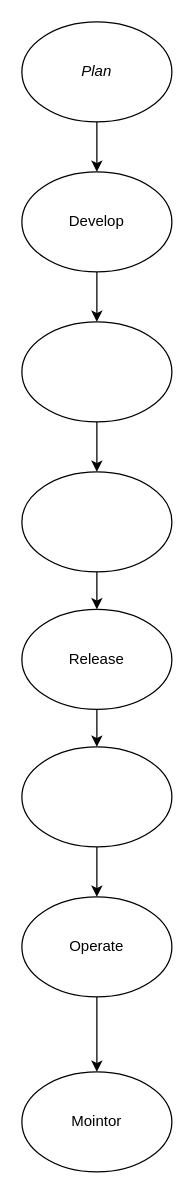
This 194x1194 diagram has some shape labels left out. Each missing label, with the centre of its shape:
Build: (96,371)
Deploy: (96,796)
Test: (96,521)
